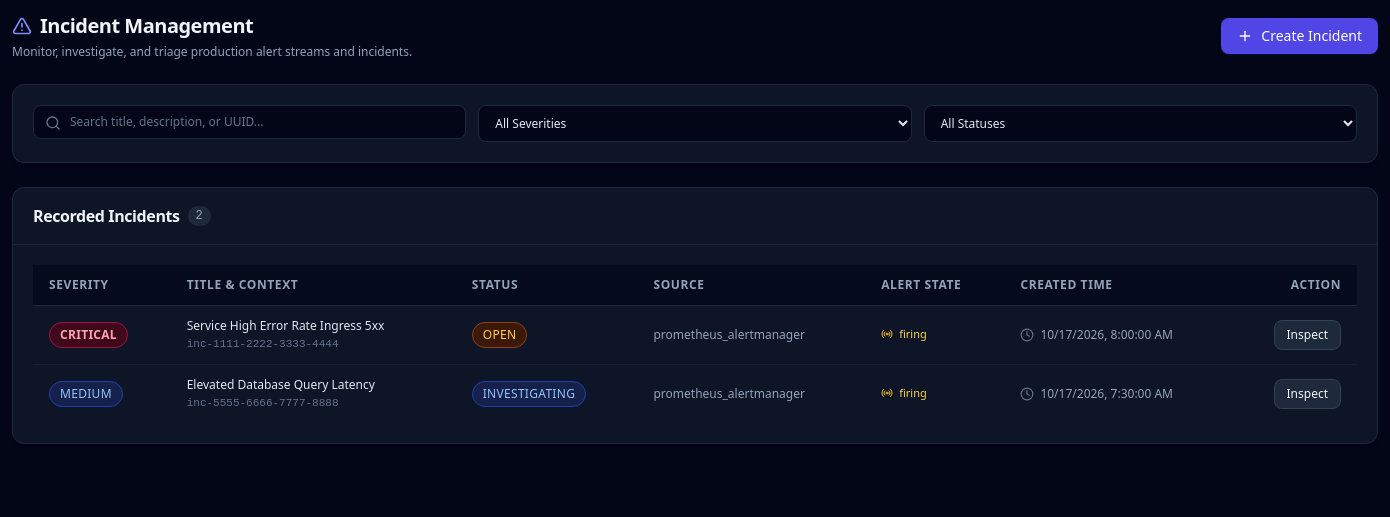
it: IncidentsPage › shows empty state when no incidents match filter
This screenshot has width=1390, height=517.
Check: the link "Service High Error Rate Ingress 5xx" is shown, box [187,317,384,334]
Type "NonexistentSpikePattern" into the field with placeholder "Search title, description, or UUID..." at (250, 122), box [33,105,466,139]
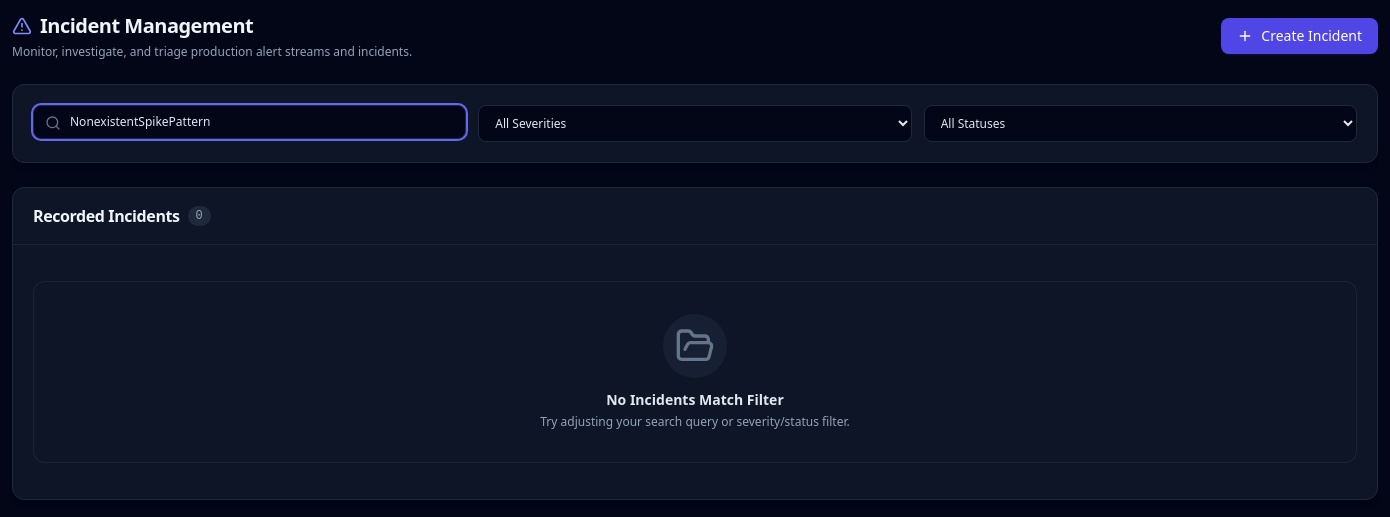
Check: the heading "No Incidents Match Filter" is shown, box [606,390,784,410]
